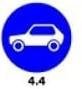road_sign: (2, 3, 70, 72)
